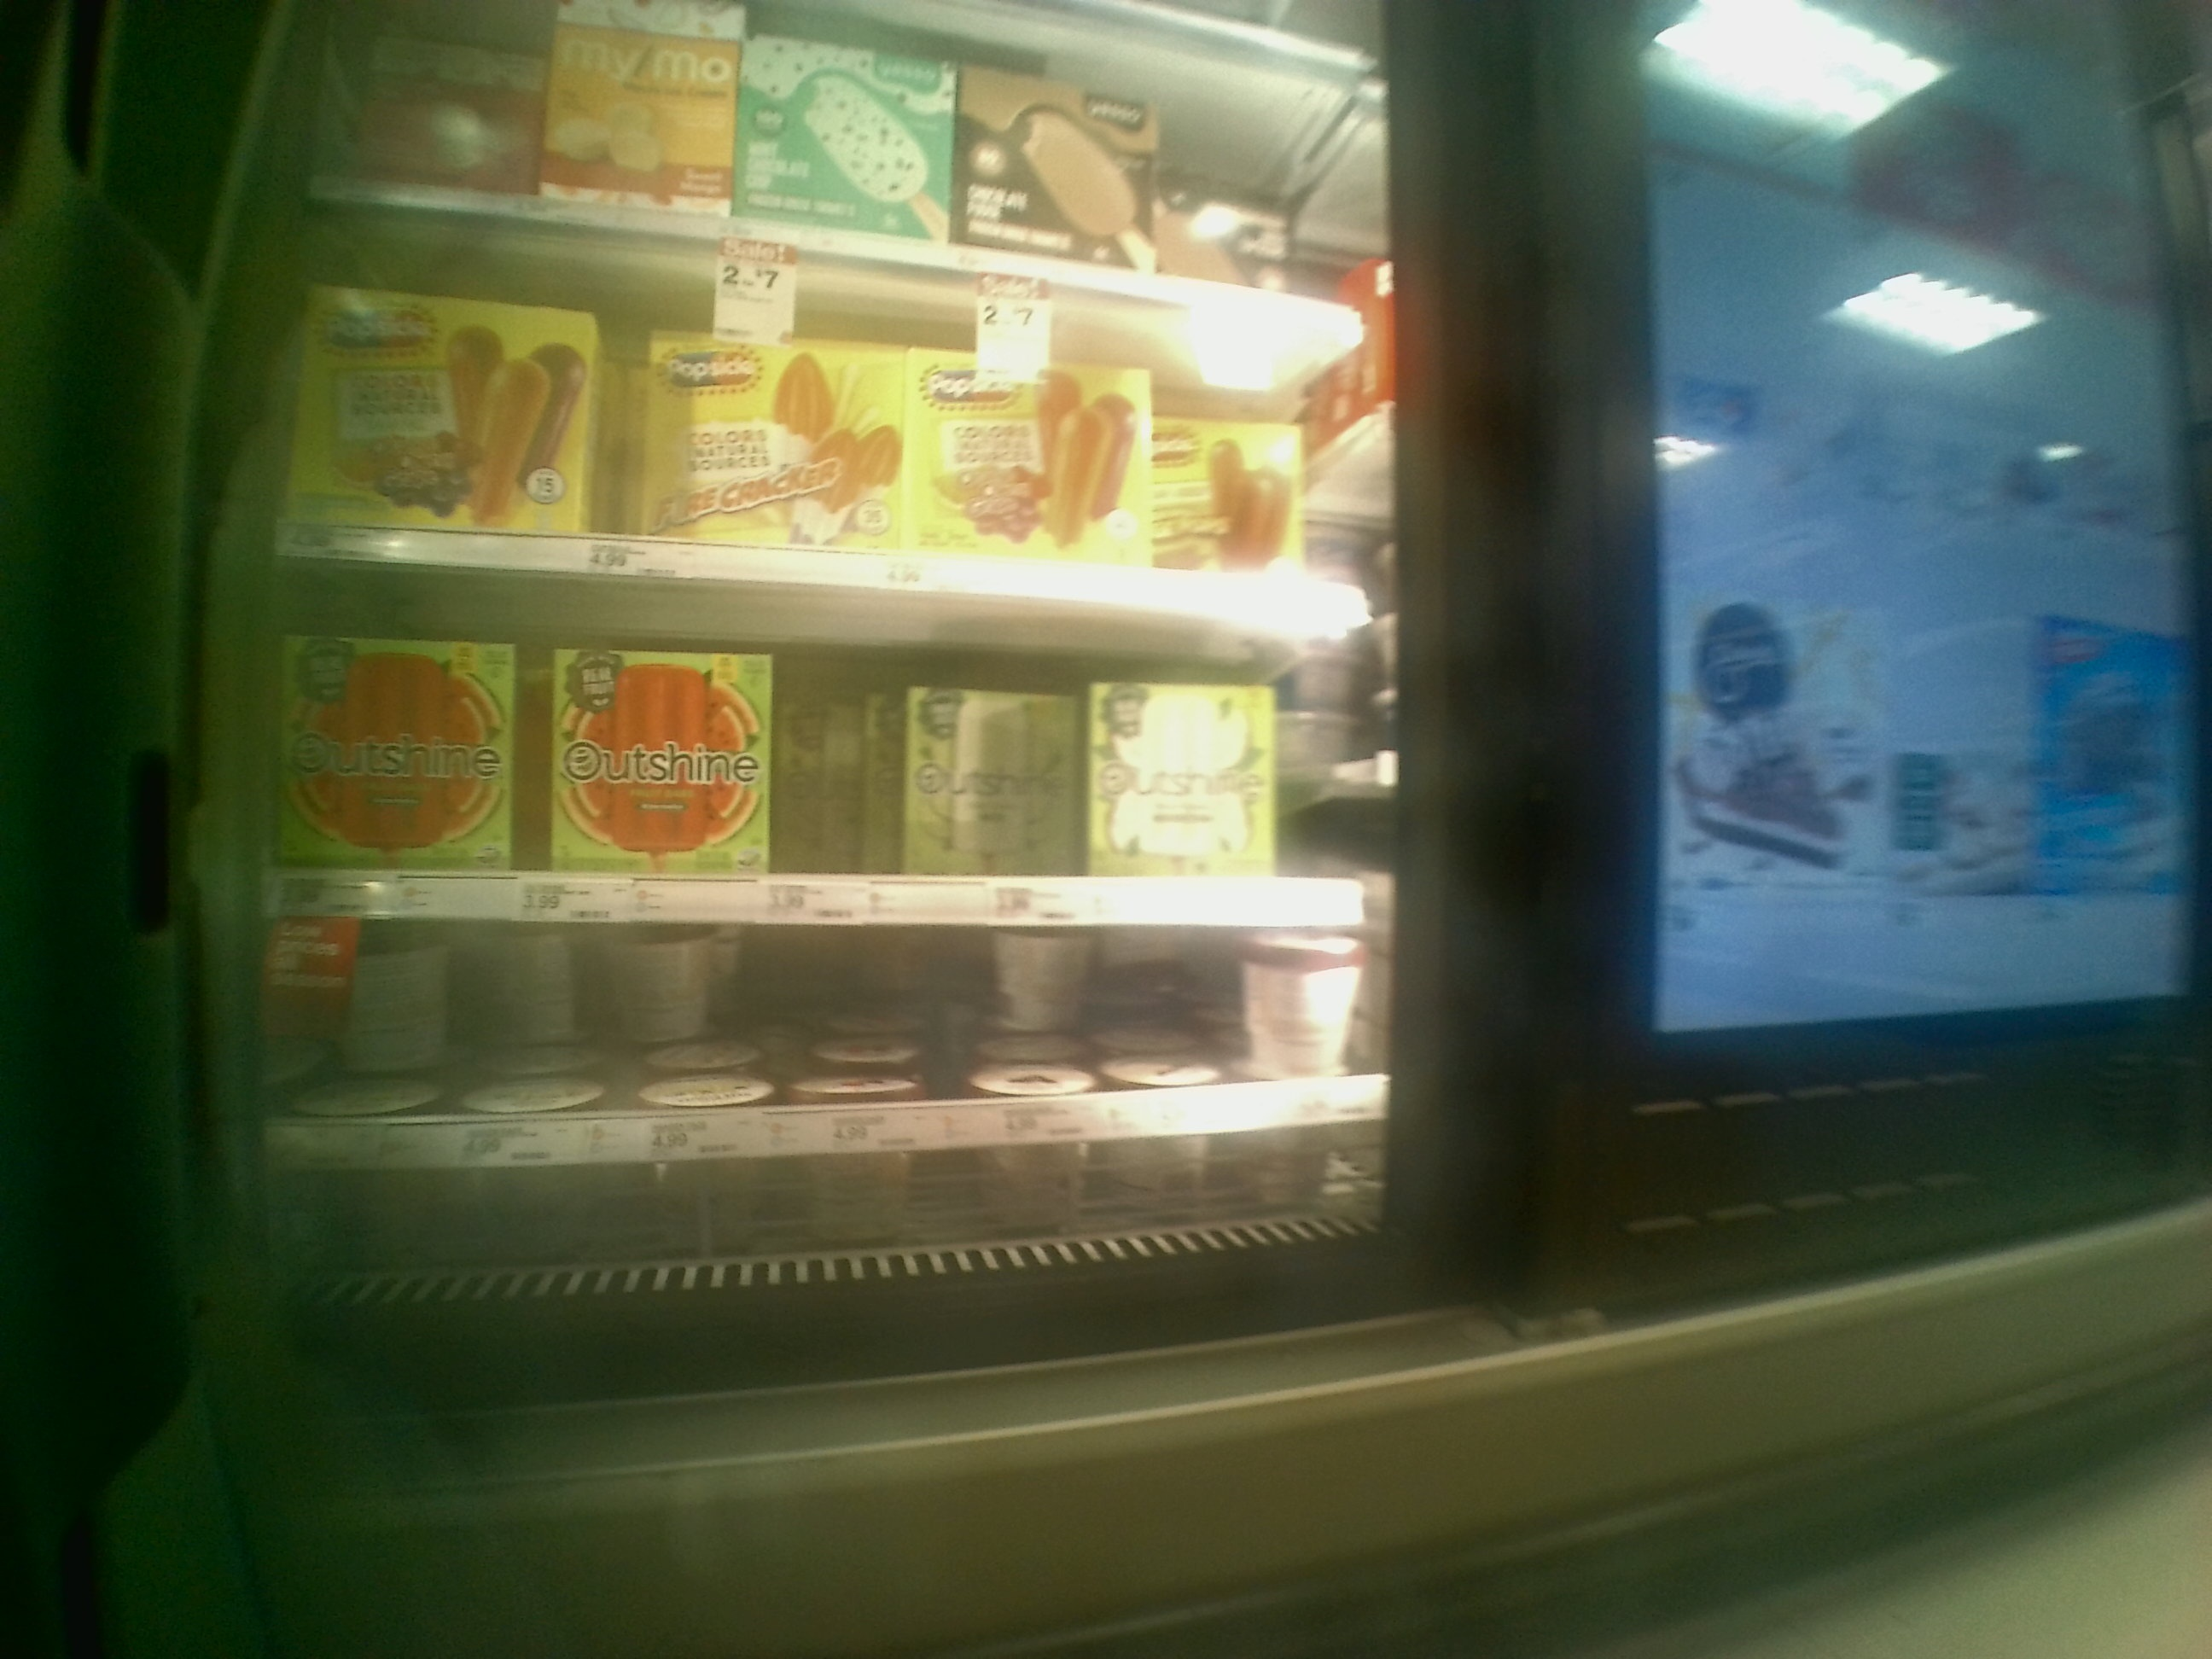ice-cream-shelf: (270, 566, 1395, 934), (275, 207, 1388, 575)
